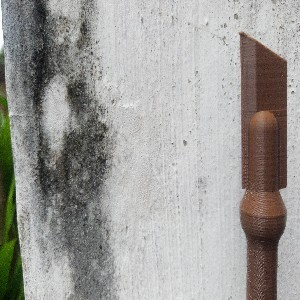cutter: (238, 30, 289, 300)
